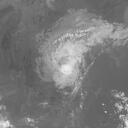cyclone: (47, 35, 90, 82)
